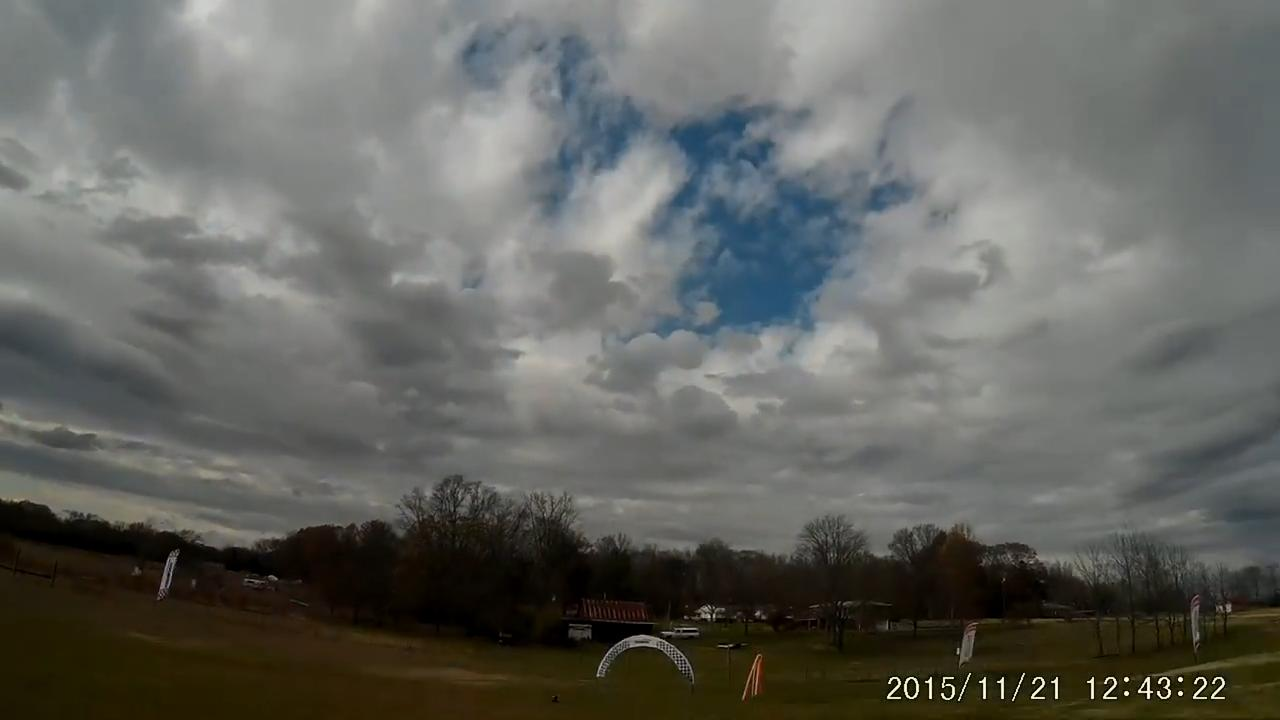gate: (593, 633, 696, 689)
